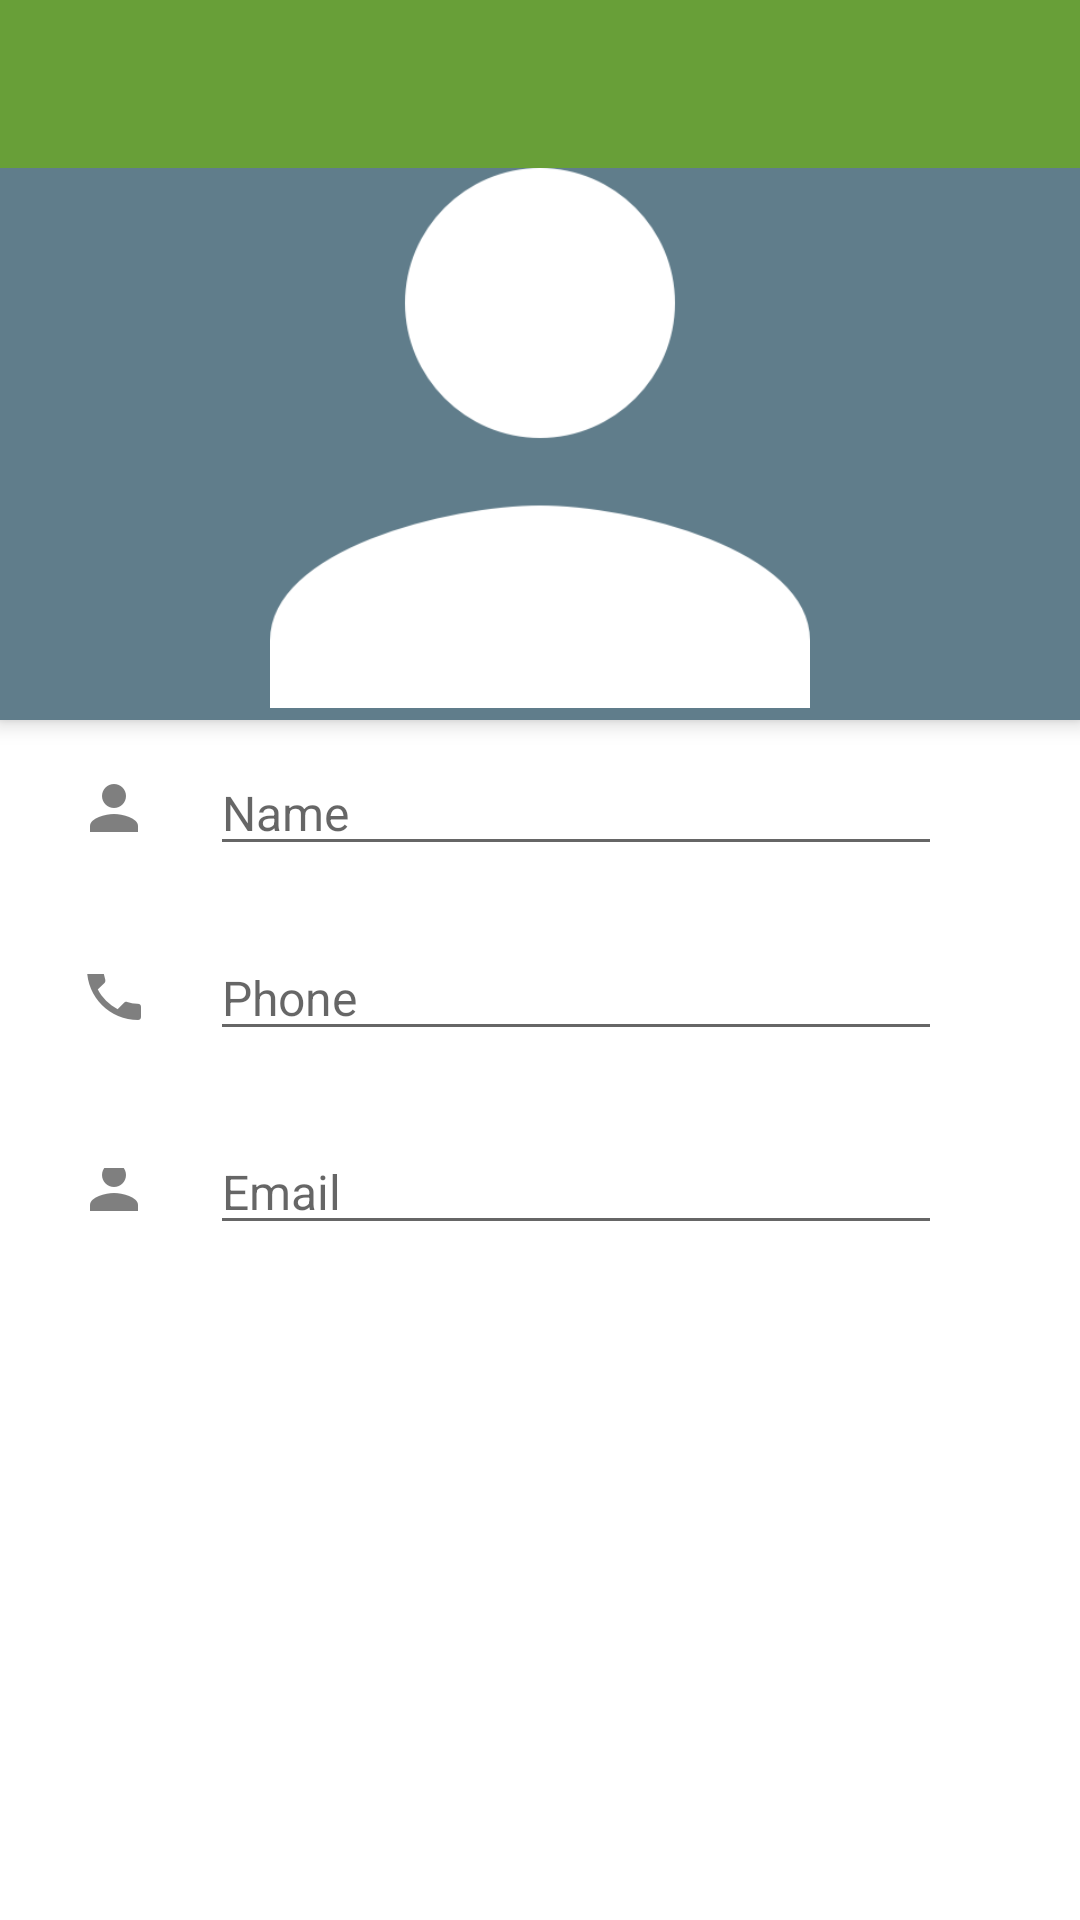

Icon bounding boxes for this 1080 x 1920 phone screenshot, format [x1,y1,x2,y2]:
call: [87,974,141,1020]
